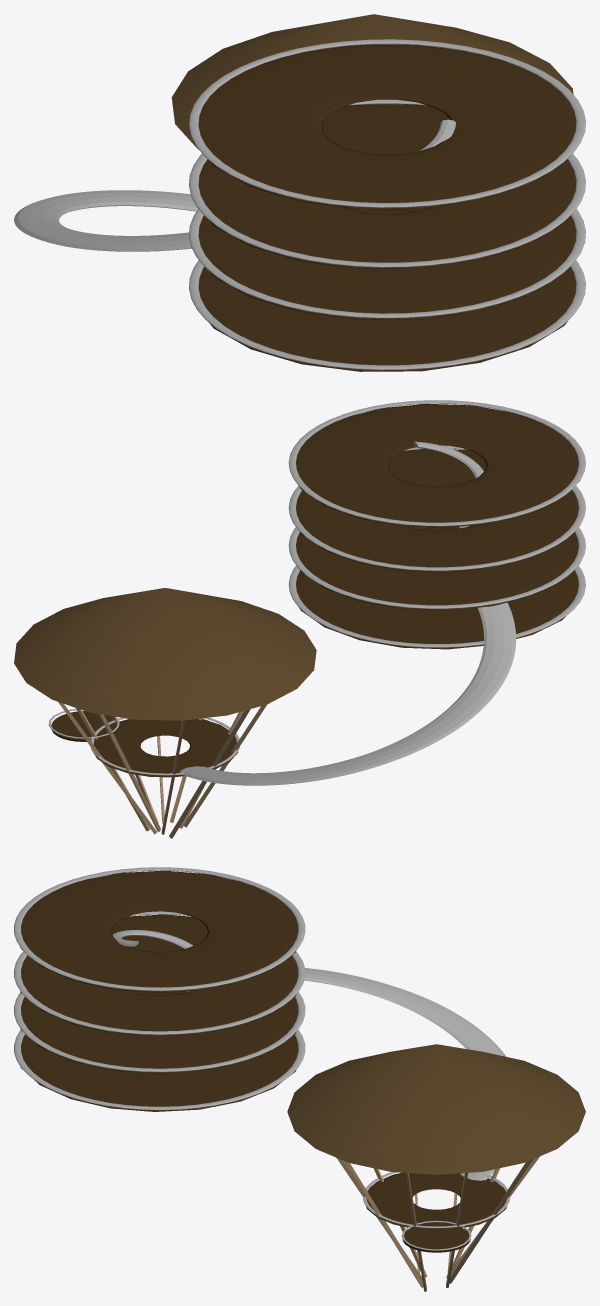
File: treeBattleMapV2.fbx
3 renders of one model, top to bottom at view 1: azimuth 30°, elevation 25°; view 2: azimuth 150°, elevation 25°; view 3: azimuth 270°, elevation 25°, orthographic. The views are drawn at different scales.
Parts seen in each view (by area): view 1: pTorus11, pTorus8, pTorus10, pTorus4, pCone1, pHelix1, pTorus12, pTorus7, pTorus9, pTorus3; view 2: pCone1, pTorus11, pTorus8, pTorus4, pTorus10, pHelix1, pTorus2, pTorus12, pTorus7, pTorus3, pTorus9, pCylinder1 (+5 smaller); view 3: pCone1, pTorus11, pTorus8, pTorus10, pTorus4, pTorus2, pHelix1, pTorus12, pTorus7, pTorus9, pTorus3, pCylinder1 (+4 smaller).
Boxes of the visible parts, x1=… form: pTorus11: x1=198, y1=44, x2=576, y2=209; pTorus8: x1=198, y1=104, x2=576, y2=269; pTorus10: x1=198, y1=210, x2=576, y2=371; pTorus4: x1=198, y1=207, x2=576, y2=319; pCone1: x1=171, y1=14, x2=573, y2=149; pHelix1: x1=14, y1=190, x2=198, y2=251; pTorus12: x1=189, y1=39, x2=585, y2=207; pTorus7: x1=189, y1=99, x2=585, y2=267; pTorus9: x1=189, y1=260, x2=585, y2=370; pTorus3: x1=189, y1=209, x2=585, y2=318; pCone1: x1=14, y1=588, x2=316, y2=720; pTorus11: x1=296, y1=404, x2=580, y2=527; pTorus8: x1=296, y1=448, x2=580, y2=572; pTorus4: x1=296, y1=526, x2=579, y2=610; pTorus10: x1=296, y1=528, x2=579, y2=649; pHelix1: x1=180, y1=602, x2=516, y2=785; pTorus2: x1=91, y1=718, x2=238, y2=777; pTorus12: x1=288, y1=400, x2=585, y2=526; pTorus7: x1=288, y1=445, x2=585, y2=570; pTorus3: x1=288, y1=527, x2=585, y2=608; pTorus9: x1=288, y1=565, x2=585, y2=647; pCylinder1: x1=51, y1=711, x2=116, y2=741; pCone1: x1=287, y1=1044, x2=585, y2=1174; pTorus11: x1=20, y1=870, x2=298, y2=992; pTorus8: x1=20, y1=914, x2=298, y2=1036; pTorus10: x1=20, y1=992, x2=298, y2=1111; pTorus4: x1=20, y1=990, x2=298, y2=1073; pTorus2: x1=366, y1=1172, x2=507, y2=1227; pHelix1: x1=304, y1=968, x2=506, y2=1180; pTorus12: x1=14, y1=867, x2=305, y2=990; pTorus7: x1=14, y1=911, x2=305, y2=1034; pTorus9: x1=14, y1=1029, x2=305, y2=1110; pTorus3: x1=14, y1=992, x2=305, y2=1072; pCylinder1: x1=402, y1=1223, x2=470, y2=1252.
Bounding box in the file's own units: 21.78 × 15.01 × 26.28.
